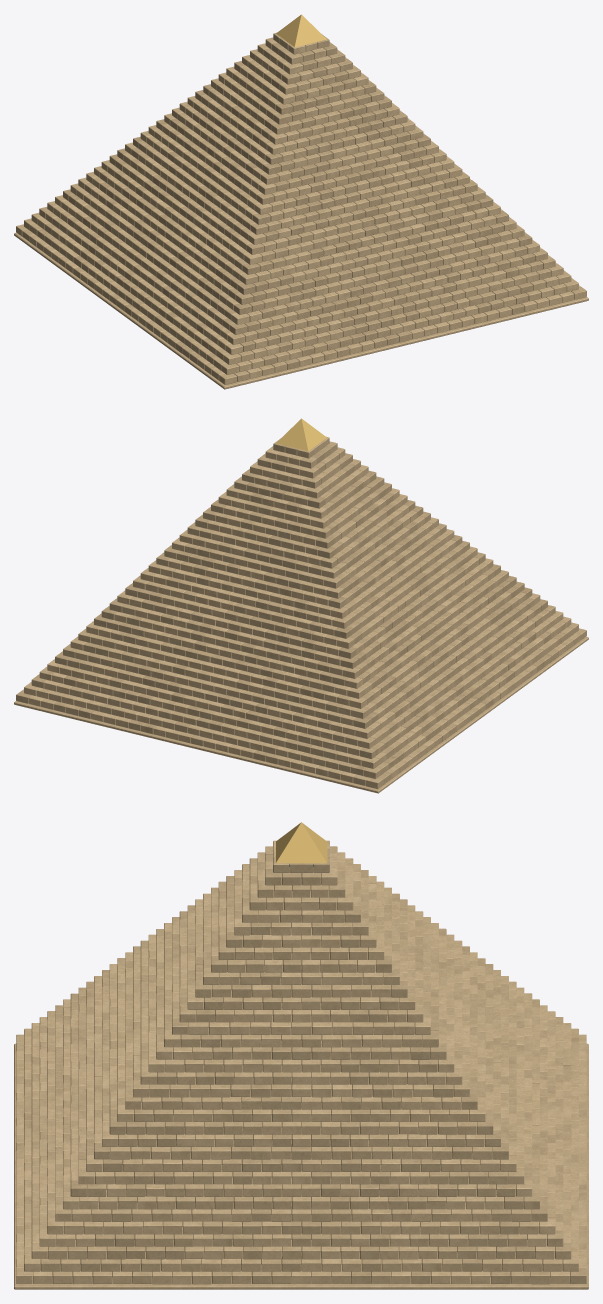
Rendered from pyramide-web.glb.
3 renders of one model, top to bottom at view 1: azimuth 30°, elevation 25°; view 2: azimuth 150°, elevation 25°; view 3: azimuth 270°, elevation 25°, orthographic. The views are drawn at different scales.
Parts seen in each view (by area): view 1: Surface_Limestone_1, Surface_Limestone_3, Surface_Limestone_4, Surface_Limestone_0, Surface_Limestone_2, Surface_Brushed_Champagne_Gold; view 2: Surface_Limestone_2, Surface_Limestone_3, Surface_Limestone_1, Surface_Limestone_4, Surface_Limestone_0, Surface_Brushed_Champagne_Gold; view 3: Surface_Limestone_2, Surface_Limestone_1, Surface_Limestone_0, Surface_Limestone_4, Surface_Limestone_3, Surface_Brushed_Champagne_Gold.
Part boxes in pixels (x1,y1,x2,y2): Surface_Limestone_1: (14,35,588,389); Surface_Limestone_3: (29,32,578,364); Surface_Limestone_4: (37,37,580,378); Surface_Limestone_0: (37,34,535,369); Surface_Limestone_2: (16,37,586,384); Surface_Brushed_Champagne_Gold: (275,14,326,47); Surface_Limestone_2: (41,441,586,788); Surface_Limestone_3: (24,448,571,779); Surface_Limestone_1: (14,446,588,793); Surface_Limestone_4: (22,436,566,782); Surface_Limestone_0: (16,438,550,775); Surface_Brushed_Champagne_Gold: (276,418,326,451); Surface_Limestone_2: (16,846,586,1283); Surface_Limestone_1: (14,856,588,1289); Surface_Limestone_0: (16,848,586,1283); Surface_Limestone_4: (16,840,586,1284); Surface_Limestone_3: (16,840,586,1284); Surface_Brushed_Champagne_Gold: (275,822,327,864).
Bounding box in the file's own units: 22.16 × 14.73 × 22.16.
7 materials, 5 textured.
